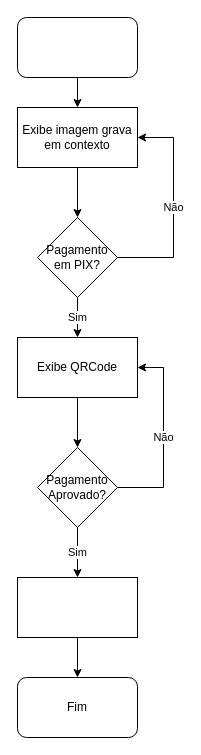
This 201x755 diagram has some shape labels left out. Each missing label, with the centre of its shape:
Agradecer pela Compra: (x=77, y=607)
Início: (x=77, y=47)
